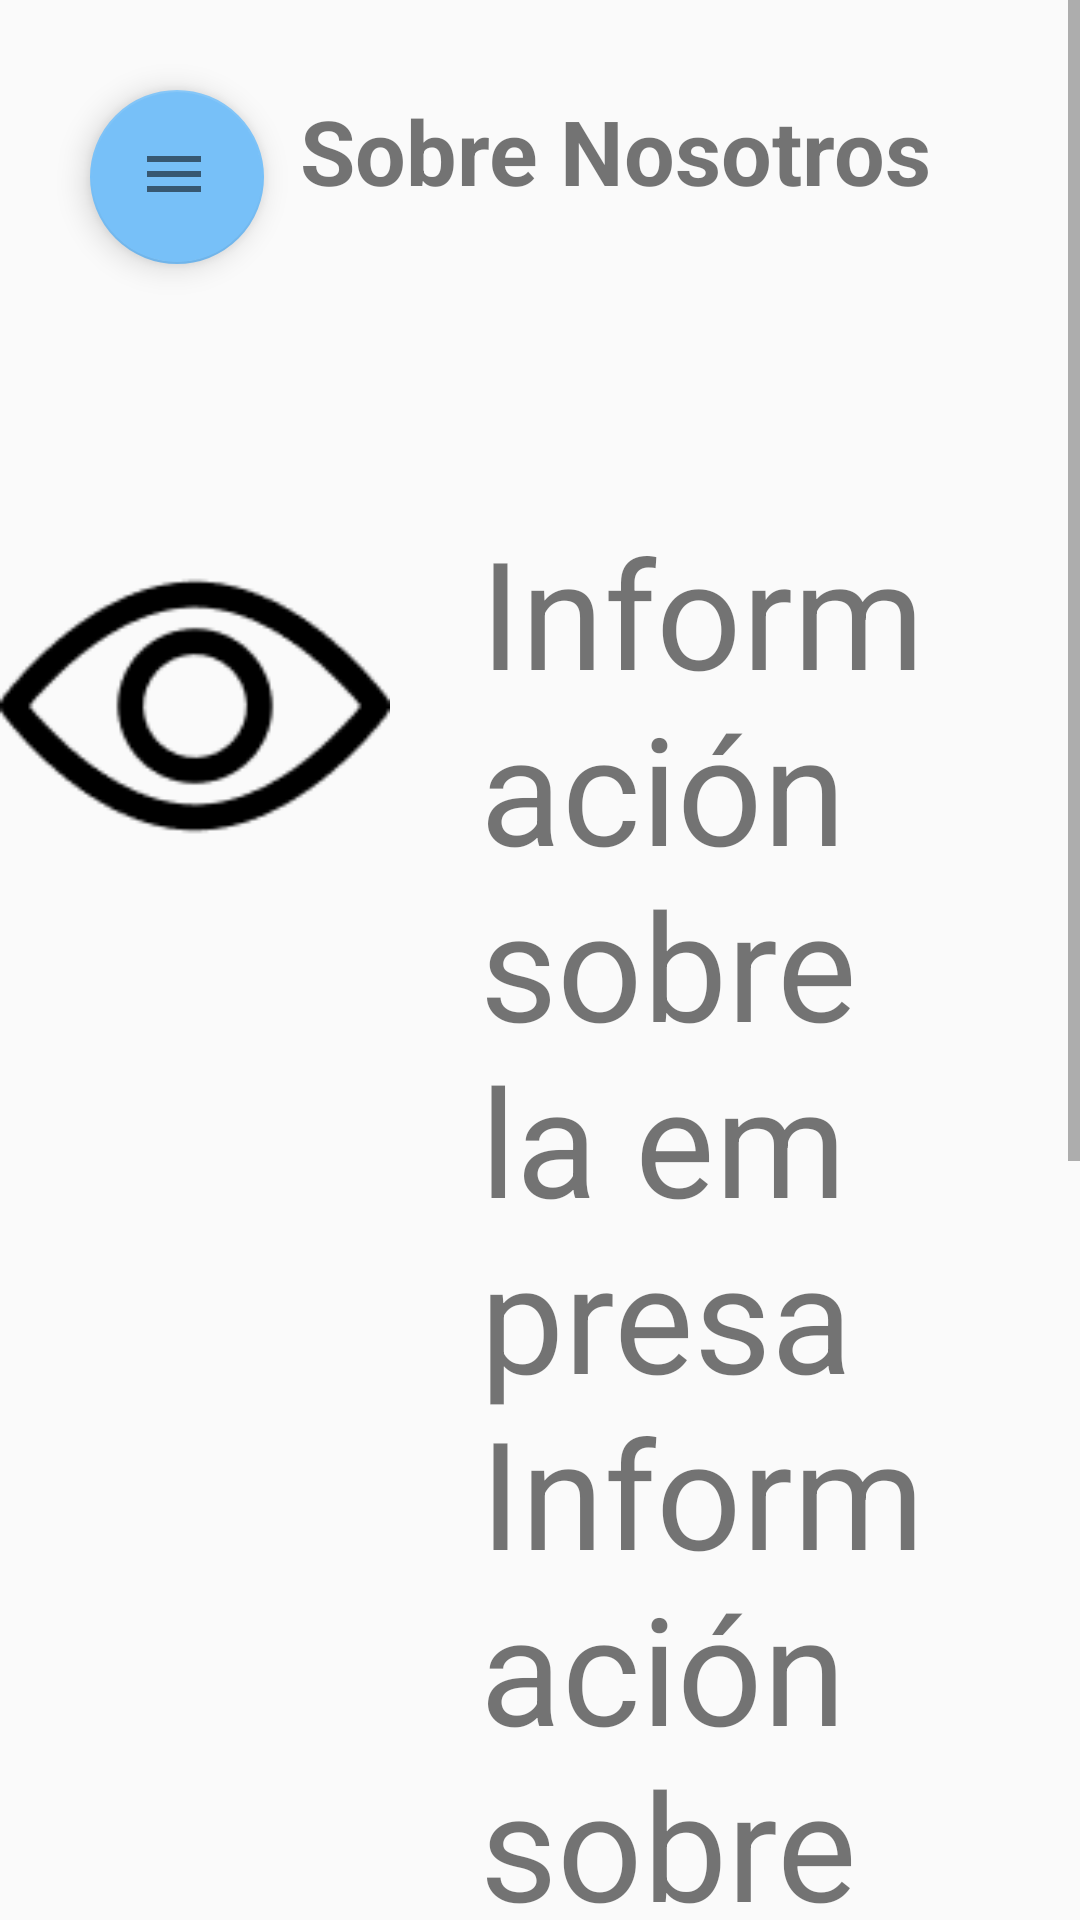

Icon click points for this 1080 × 1920 phone screenshot, format [x,y]:
menu: [177,177]
